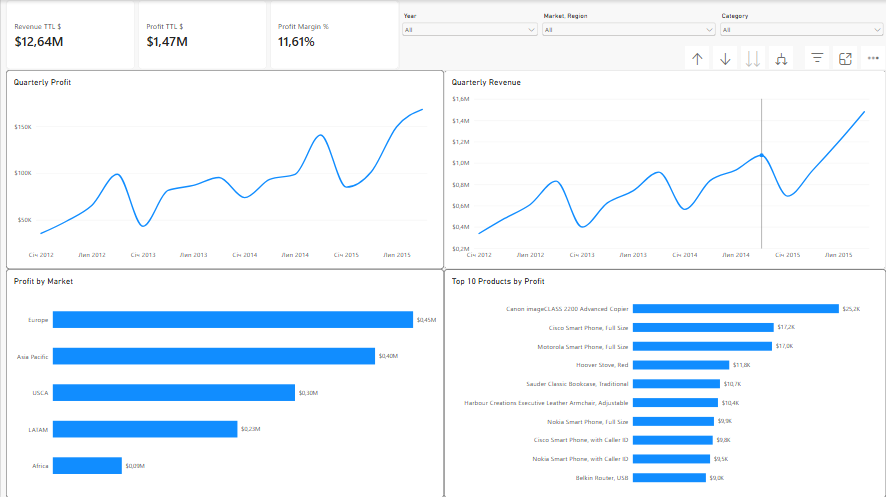

This screenshot's page, from the dashboard's own definition file:
{"tool":"powerbi","page":{"name":"Financial Overview","canvas":[1920,1080],"ordinal":0},"visuals":[{"type":"cardVisual","fields":{"Data":["_Measures.Revenue TTL $","_Measures.Net Profit TTL $","_Measures.Profit Margin %"]},"box":[10.8,0,646.3,151.8],"z":0},{"type":"lineChart","fields":{"Category":["Dim_Calendar.Date.Variation.Date Hierarchy.Year","Dim_Calendar.Date.Variation.Date Hierarchy.Quarter","Dim_Calendar.Date.Variation.Date Hierarchy.Month","Dim_Calendar.Date.Variation.Date Hierarchy.Day"],"Y":["_Measures.Net Profit TTL $"]},"box":[10.8,151.8,949.9,431.6],"z":1000},{"type":"clusteredColumnChart","fields":{"Category":["Dim_Adress.Location Hierarchy.Market","Dim_Adress.Location Hierarchy.Region","Dim_Adress.Location Hierarchy.Country","Dim_Adress.Location Hierarchy.State","Dim_Adress.Location Hierarchy.City"],"Y":["_Measures.Net Profit TTL $"]},"box":[10.8,583.4,949.9,496.6],"z":2000},{"type":"clusteredColumnChart","title":"Top 10 Products by Net Profit TTL $","fields":{"Category":["Dim_Product.Product Hierarchy.Category","Dim_Product.Product Hierarchy.Sub-Category","Dim_Product.Product Hierarchy.Product Name"],"Y":["_Measures.Net Profit TTL $"]},"box":[960.7,583.4,958.6,496.6],"z":3000},{"type":"lineChart","fields":{"Category":["Dim_Calendar.Date.Variation.Date Hierarchy.Year","Dim_Calendar.Date.Variation.Date Hierarchy.Quarter","Dim_Calendar.Date.Variation.Date Hierarchy.Month","Dim_Calendar.Date.Variation.Date Hierarchy.Day"],"Y":["_Measures.Revenue TTL $"]},"box":[960.7,151.8,958.6,431.6],"z":4000},{"type":"slicer","fields":{"Values":["Dim_Calendar.Date.Variation.Date Hierarchy.Year"]},"box":[657.1,26,303.6,97.6],"z":5000},{"type":"slicer","fields":{"Values":["Dim_Adress.Location Hierarchy.Market","Dim_Adress.Location Hierarchy.Region"]},"box":[960.7,26,386,97.6],"z":6000},{"type":"slicer","fields":{"Values":["Dim_Product.Product Hierarchy.Category"]},"box":[1346.7,26,364.3,97.6],"z":7000}]}

Visuals, with their boxes in screenshot pixels (x1, y1, x2, y2), scaled from the page's 1920x1080 canvas onto the 886x497 screenshot:
cardVisual - _Measures.Revenue TTL $ x _Measures.Net Profit TTL $: box(5, 0, 303, 70)
lineChart - Dim_Calendar.Date.Variation.Date Hierarchy.Year x Dim_Calendar.Date.Variation.Date Hierarchy.Quarter: box(5, 70, 443, 268)
clusteredColumnChart - Dim_Adress.Location Hierarchy.Market x Dim_Adress.Location Hierarchy.Region: box(5, 268, 443, 496)
"Top 10 Products by Net Profit TTL $" clusteredColumnChart: box(443, 268, 885, 496)
lineChart - Dim_Calendar.Date.Variation.Date Hierarchy.Year x Dim_Calendar.Date.Variation.Date Hierarchy.Quarter: box(443, 70, 885, 268)
slicer - Dim_Calendar.Date.Variation.Date Hierarchy.Year: box(303, 12, 443, 57)
slicer - Dim_Adress.Location Hierarchy.Market x Dim_Adress.Location Hierarchy.Region: box(443, 12, 621, 57)
slicer - Dim_Product.Product Hierarchy.Category: box(621, 12, 790, 57)
